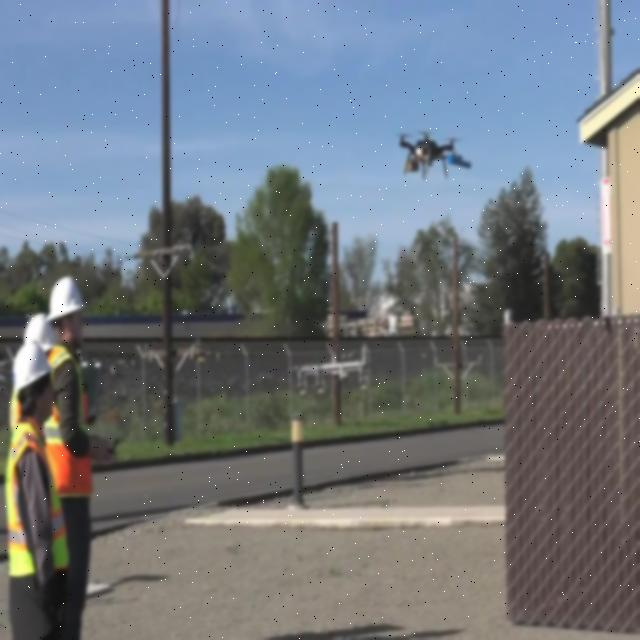UAV: (394, 132, 464, 180)
